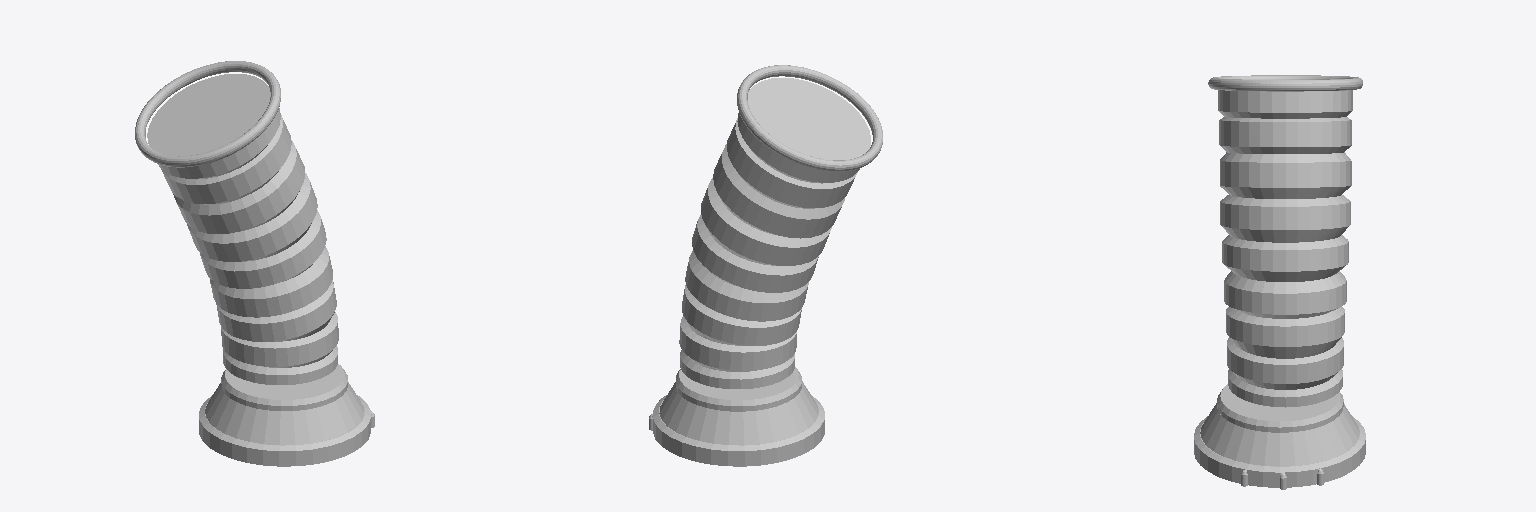
Rendered from pata_frontal_izquierda.obj.
The picture shows the model from 3 angles: view 1: azimuth 30°, elevation 25°; view 2: azimuth 150°, elevation 25°; view 3: azimuth 270°, elevation 25°; orthographic projection.
Visible parts, largest first — view 1: C_rculo, C_rculo_009_C_rculo_010, C_rculo_010_C_rculo_011, C_rculo_003, C_rculo_008_C_rculo_009; view 2: C_rculo, C_rculo_009_C_rculo_010, C_rculo_003, C_rculo_010_C_rculo_011, C_rculo_008_C_rculo_009; view 3: C_rculo, C_rculo_009_C_rculo_010, C_rculo_010_C_rculo_011, C_rculo_008_C_rculo_009, C_rculo_003.
Part boxes in pixels (left/top/right/bottom): C_rculo: left=147, top=74, right=338, bottom=384; C_rculo_009_C_rculo_010: left=205, top=382, right=363, bottom=444; C_rculo_010_C_rculo_011: left=199, top=395, right=370, bottom=466; C_rculo_003: left=135, top=61, right=280, bottom=167; C_rculo_008_C_rculo_009: left=221, top=364, right=347, bottom=410; C_rculo: left=679, top=78, right=870, bottom=388; C_rculo_009_C_rculo_010: left=659, top=381, right=818, bottom=444; C_rculo_003: left=737, top=65, right=882, bottom=171; C_rculo_010_C_rculo_011: left=653, top=395, right=824, bottom=466; C_rculo_008_C_rculo_009: left=676, top=367, right=801, bottom=411; C_rculo: left=1218, top=90, right=1352, bottom=407; C_rculo_009_C_rculo_010: left=1200, top=403, right=1359, bottom=466; C_rculo_010_C_rculo_011: left=1194, top=416, right=1365, bottom=487; C_rculo_008_C_rculo_009: left=1217, top=384, right=1343, bottom=432; C_rculo_003: left=1208, top=75, right=1362, bottom=91.
Bounding box in the file's own units: 1.48 × 2.39 × 1.03.